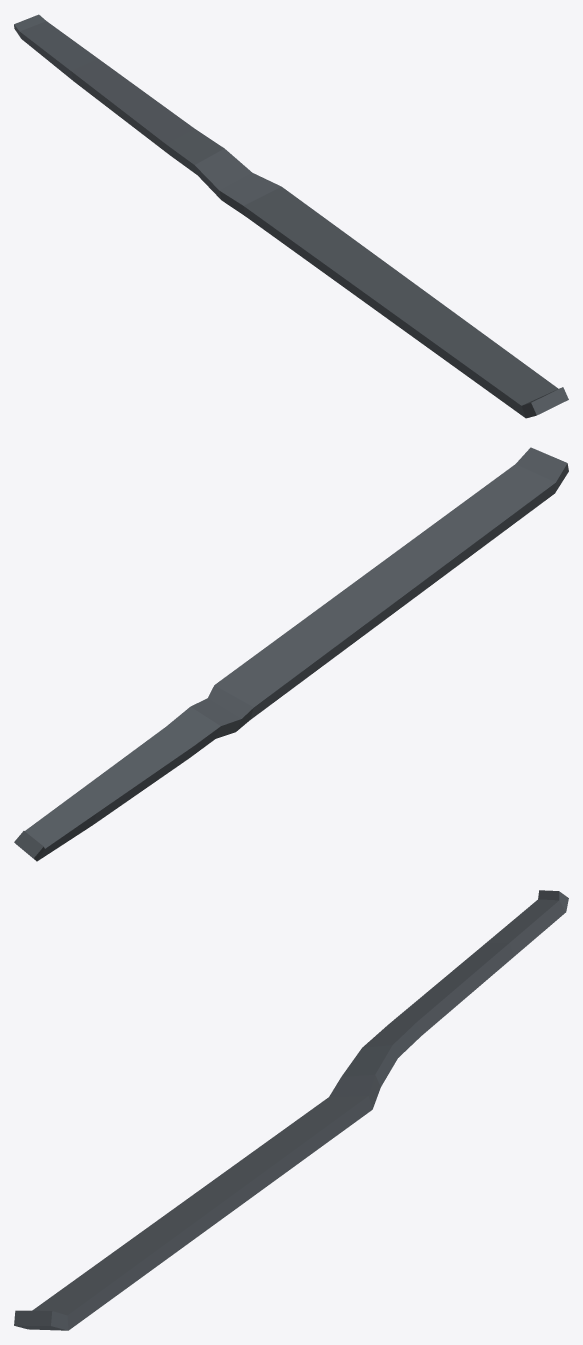
File: Mothership_02_Lining_Right.fbx
3 renders of one model, top to bottom at view 1: azimuth 30°, elevation 25°; view 2: azimuth 150°, elevation 25°; view 3: azimuth 330°, elevation 25°, orthographic. The views are drawn at different scales.
Visible parts, largest first — view 1: Mothership_02_Lining_Right; view 2: Mothership_02_Lining_Right; view 3: Mothership_02_Lining_Right.
Boxes of the visible parts, box(x1,y1,x2,y2) form: Mothership_02_Lining_Right: box(14, 14, 568, 418); Mothership_02_Lining_Right: box(14, 447, 568, 861); Mothership_02_Lining_Right: box(14, 890, 568, 1330).
Bounding box in the file's own units: 249 × 205 × 3737.
1 material, 1 textured.
